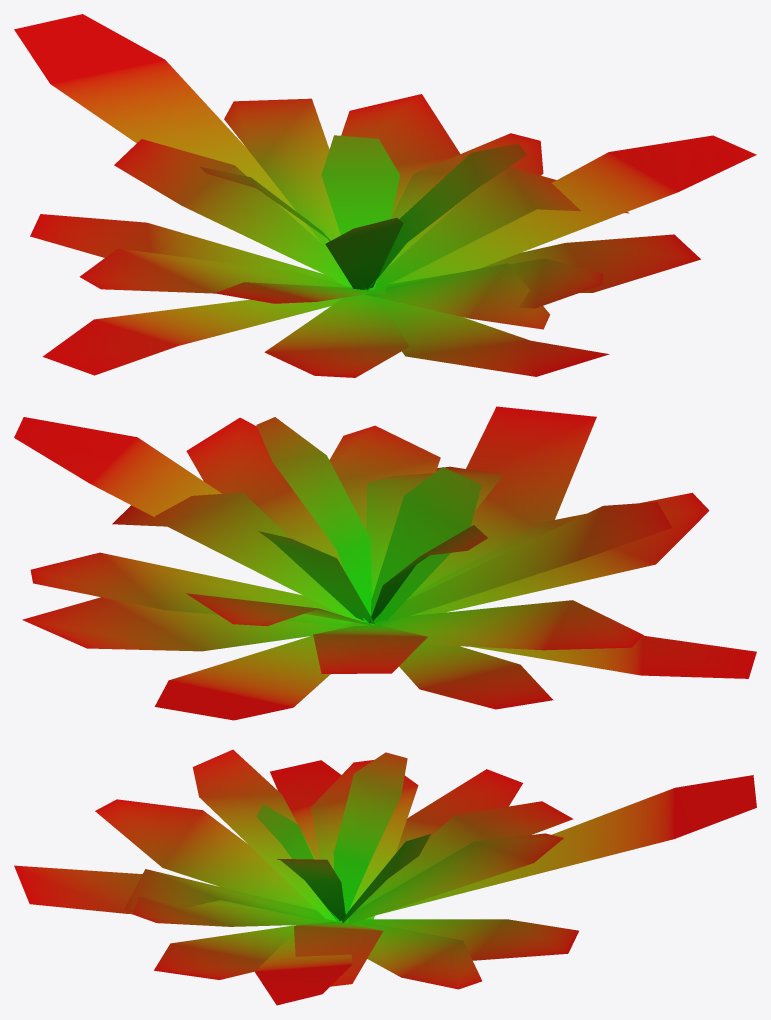
Rendered from Var28_LOD2.fbx.
The picture shows the model from 3 angles, top to bottom: view 1: azimuth 30°, elevation 25°; view 2: azimuth 150°, elevation 25°; view 3: azimuth 270°, elevation 25°; orthographic projection. The views are drawn at different scales.
Parts seen in each view (by area): view 1: _h4dc_Var28_LOD2; view 2: _h4dc_Var28_LOD2; view 3: _h4dc_Var28_LOD2.
Part boxes in pixels (bbox=[...]): _h4dc_Var28_LOD2: bbox=[14, 14, 756, 377]; _h4dc_Var28_LOD2: bbox=[14, 406, 756, 720]; _h4dc_Var28_LOD2: bbox=[14, 749, 756, 1005].
Size of the model in its own units: 21.64 by 4.14 by 23.35.
